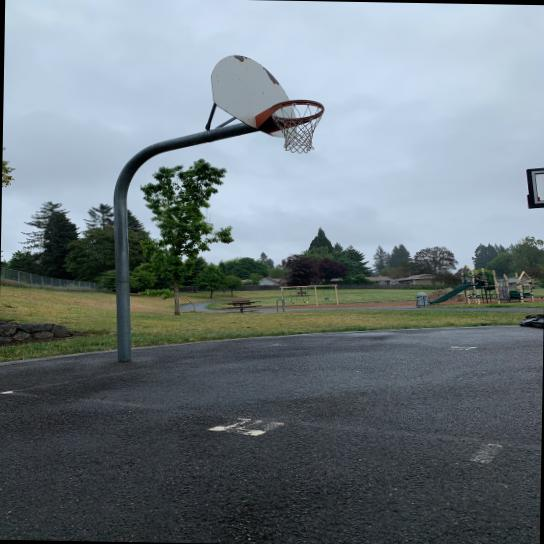basketball-hoop: (268, 98, 326, 154)
